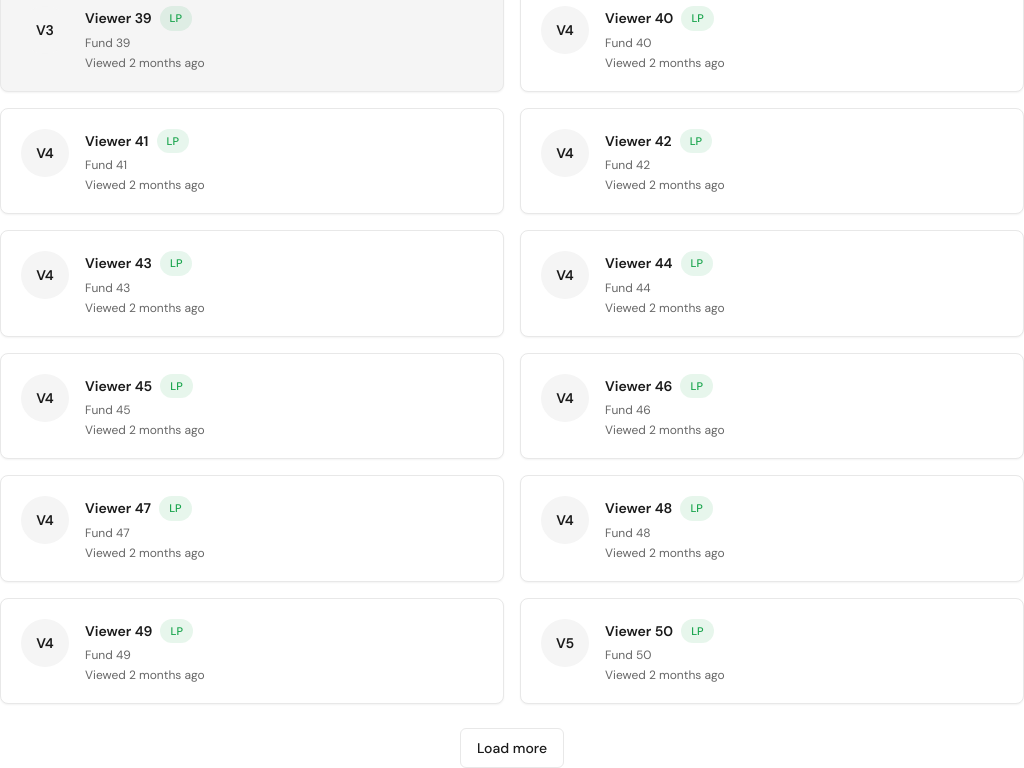
Scenario: ProfileViewersPage › paginates with the Load more button when next_cursor is present
This screenshot has width=1024, height=768.
(page scrolled)
Click the button with test id "viewers-load-more". click: (512, 748)
box: [460,728,564,767]
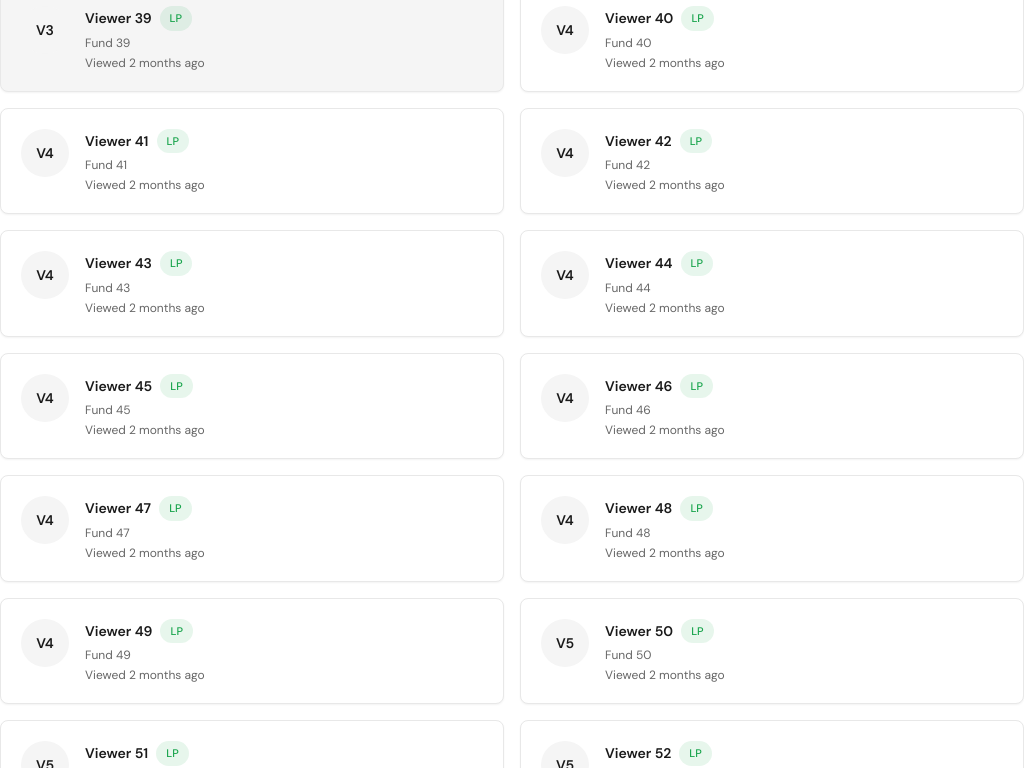
Result: the button with test id "viewers-load-more" is gone
